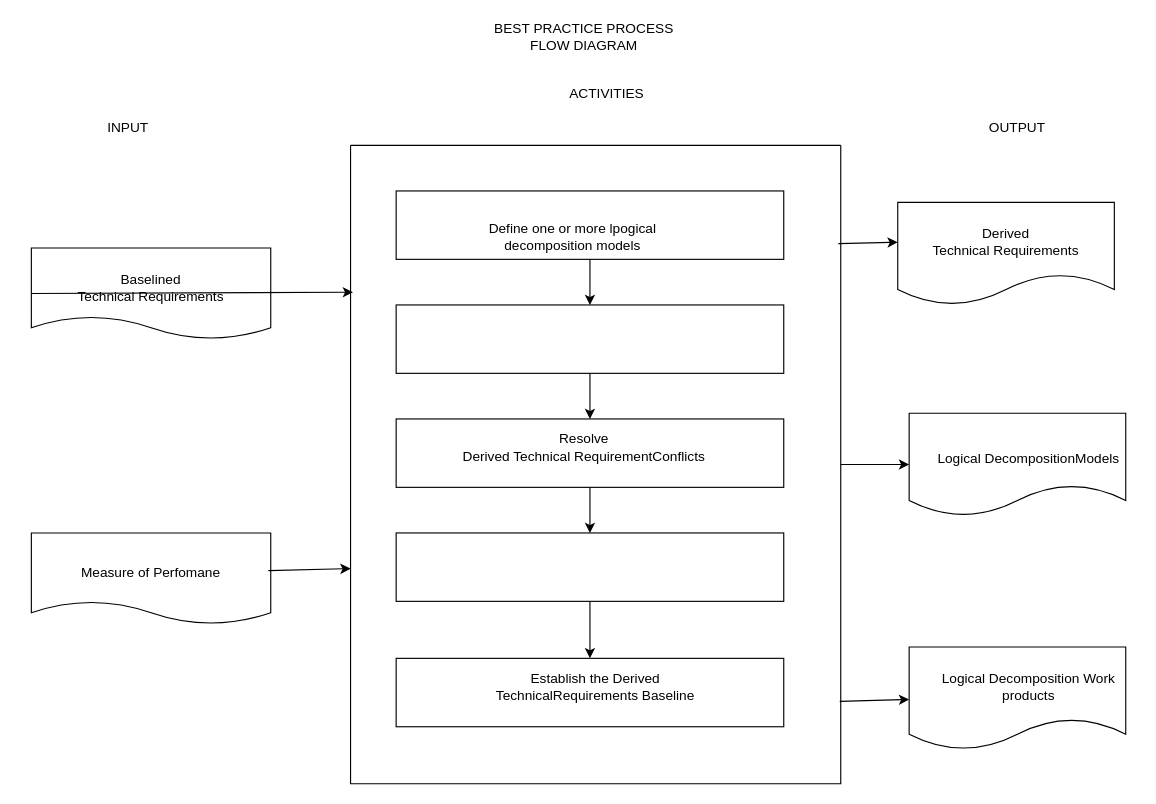
The diagram is 1156 pixels wide and 804 high, and some of its shapes have lost their labels. The box of each missing label's shape, as (x1, y1, x2, y2) in pixels:
Allocate technical requirements to logical decomposition: (395, 304, 784, 373)
Validate the Resulting Set of Derived Technical Requirements: (395, 532, 784, 601)
